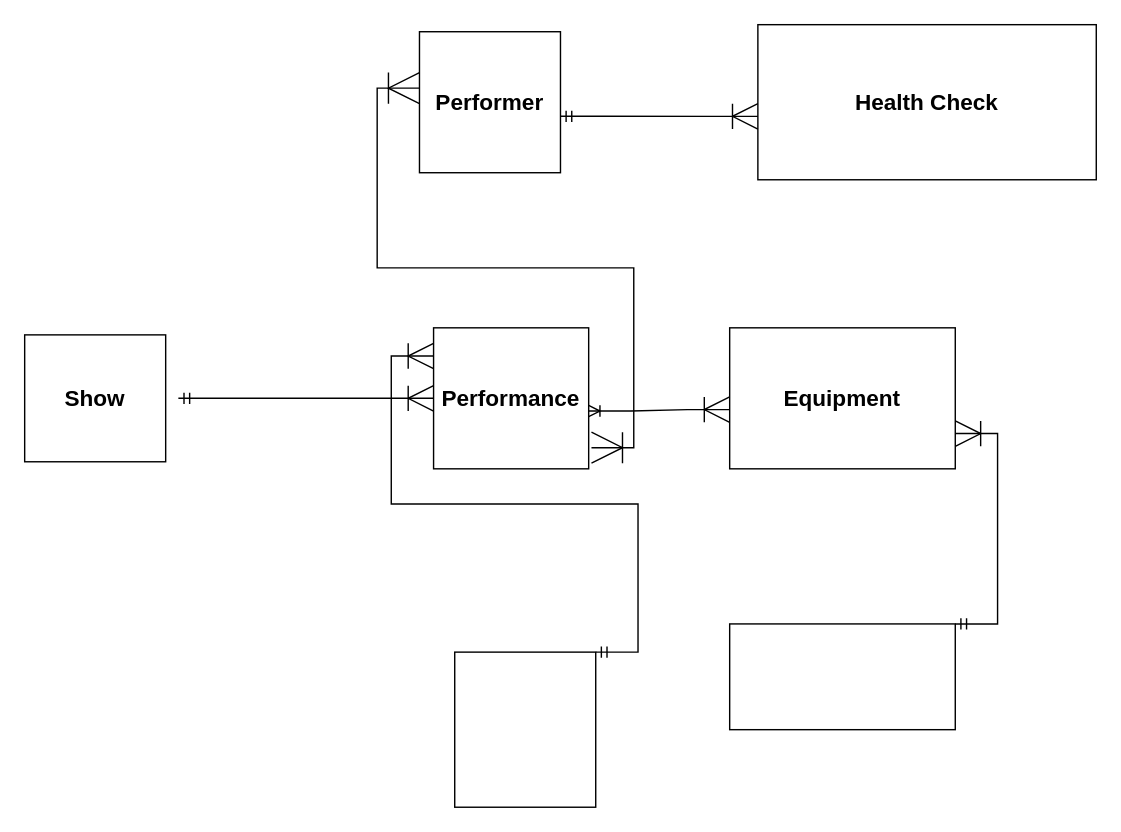
The diagram is 1121 pixels wide and 832 high, and some of its shapes have lost their labels. The shapes that lost their labels are listed below. From the top down, each one's centre as x and y in pixels, then its label:
At (841,676): "Maintenance Check".
At (524,729): "Location".
